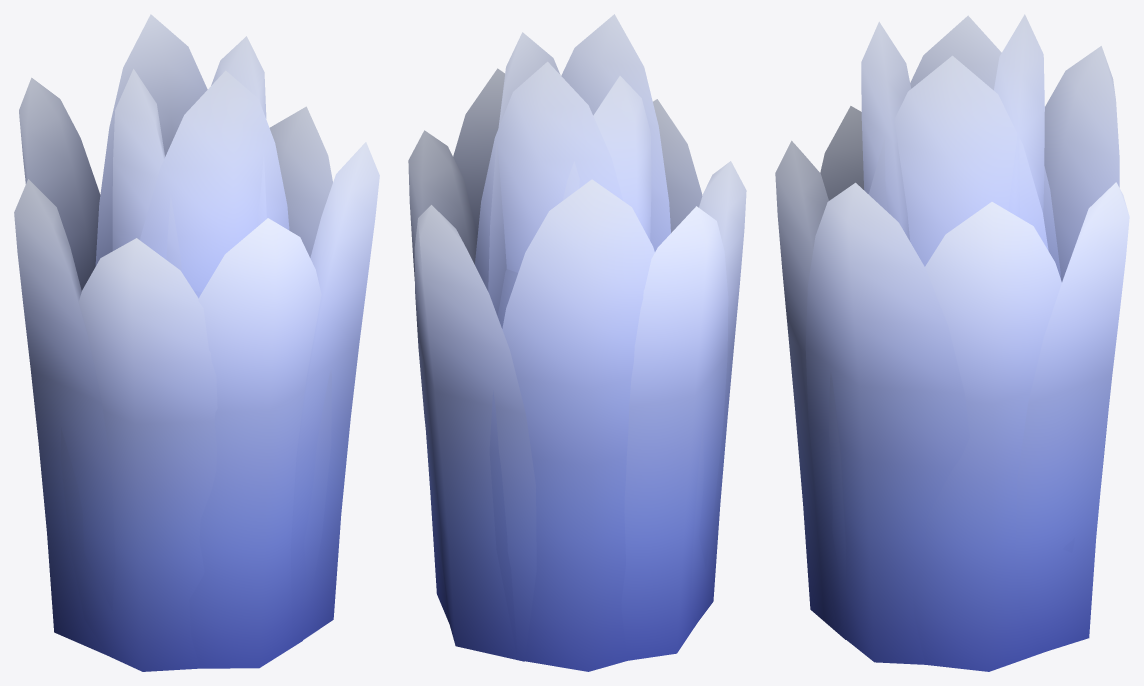
Rendered from FrostGrass.fbx.
3 renders of one model, left to right at view 1: azimuth 30°, elevation 25°; view 2: azimuth 150°, elevation 25°; view 3: azimuth 270°, elevation 25°, orthographic. The views are drawn at different scales.
Parts seen in each view (by area): view 1: FrostGrass; view 2: FrostGrass; view 3: FrostGrass.
Part boxes in pixels (x1=…): FrostGrass: x1=14, y1=14, x2=379, y2=671; FrostGrass: x1=408, y1=14, x2=746, y2=671; FrostGrass: x1=775, y1=14, x2=1129, y2=671.
Bounding box in the file's own units: 0.8201 × 1.5 × 0.8115.
1 material, 1 textured.
